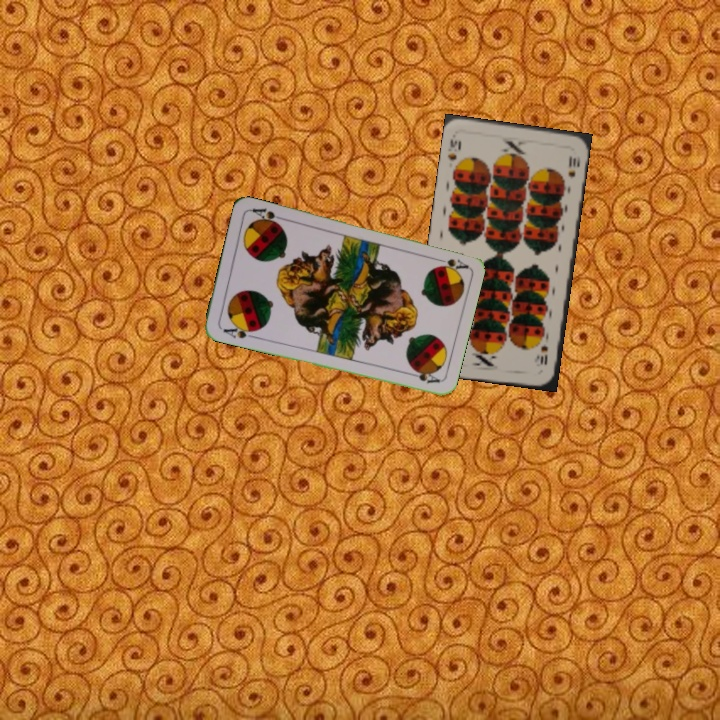S10: (443, 135, 464, 162), (536, 340, 550, 367)
SA: (219, 320, 259, 341), (430, 253, 470, 272)
